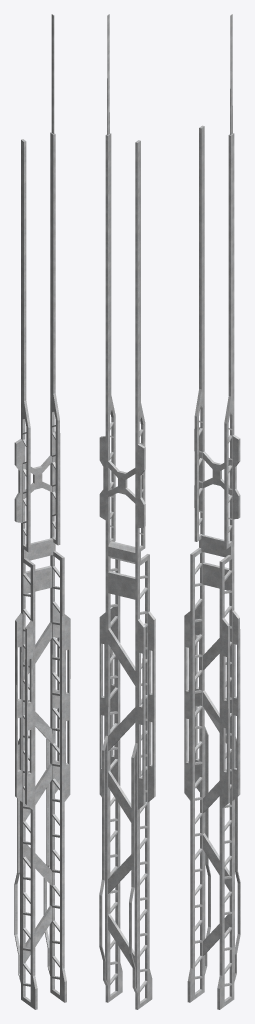
File: KB3D_NEC_BldgMD_C_AntennaA.glb
3 renders of one model, left to right at view 1: azimuth 30°, elevation 25°; view 2: azimuth 150°, elevation 25°; view 3: azimuth 330°, elevation 25°, orthographic.
Parts seen in each view (by area): view 1: KB3D_NEC_BldgMD_C_AntennaA; view 2: KB3D_NEC_BldgMD_C_AntennaA; view 3: KB3D_NEC_BldgMD_C_AntennaA.
Part boxes in pixels (x1,y1,x2,y2): KB3D_NEC_BldgMD_C_AntennaA: [14, 14, 70, 1009]; KB3D_NEC_BldgMD_C_AntennaA: [99, 14, 155, 1009]; KB3D_NEC_BldgMD_C_AntennaA: [184, 14, 240, 1009].
Size of the model in its own units: 1.27 by 27.05 by 1.04.
Materials: 1 (1 with a texture image).
